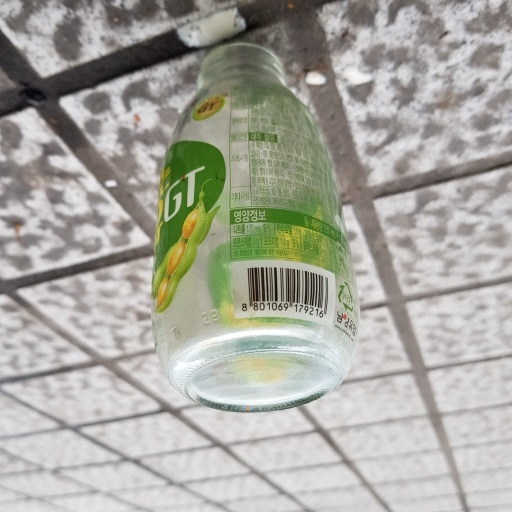Glass_4: (147, 41, 363, 412)
